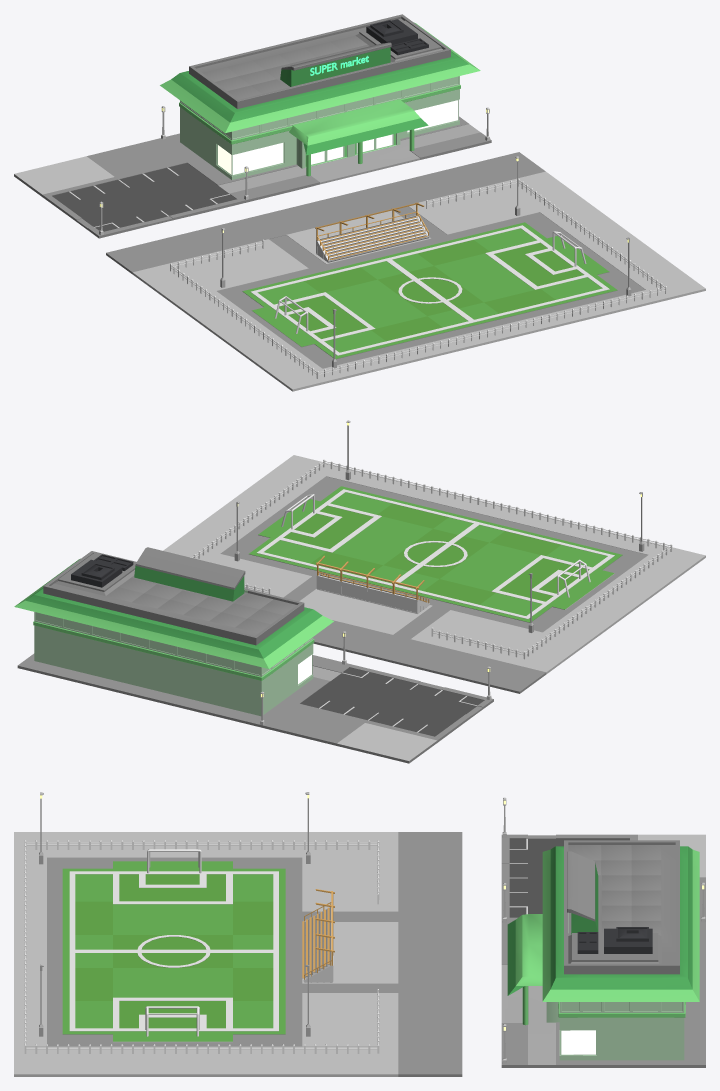
The model's file is lowpoly_football_field_and_a_supermarket.glb.
3 renders of one model, top to bottom at view 1: azimuth 30°, elevation 25°; view 2: azimuth 150°, elevation 25°; view 3: azimuth 270°, elevation 25°, orthographic. The views are drawn at different scales.
Parts seen in each view (by area): view 1: World.FotballField, World.Supermarket.001, World.Supermarket.002; view 2: World.FotballField, World.Supermarket.001, World.Supermarket.002; view 3: World.FotballField, World.Supermarket.001, World.Supermarket.002.
Part boxes in pixels (left/top/right/bottom): World.FotballField: left=106, top=152, right=705, bottom=391; World.Supermarket.001: left=99, top=14, right=490, bottom=235; World.Supermarket.002: left=14, top=116, right=491, bottom=238; World.FotballField: left=163, top=420, right=705, bottom=693; World.Supermarket.001: left=14, top=547, right=491, bottom=725; World.Supermarket.002: left=17, top=653, right=493, bottom=763; World.FotballField: left=14, top=792, right=462, bottom=1076; World.Supermarket.001: left=502, top=797, right=705, bottom=1064; World.Supermarket.002: left=501, top=834, right=705, bottom=1067.
Size of the model in its own units: 61.26 by 13.99 by 73.98.
